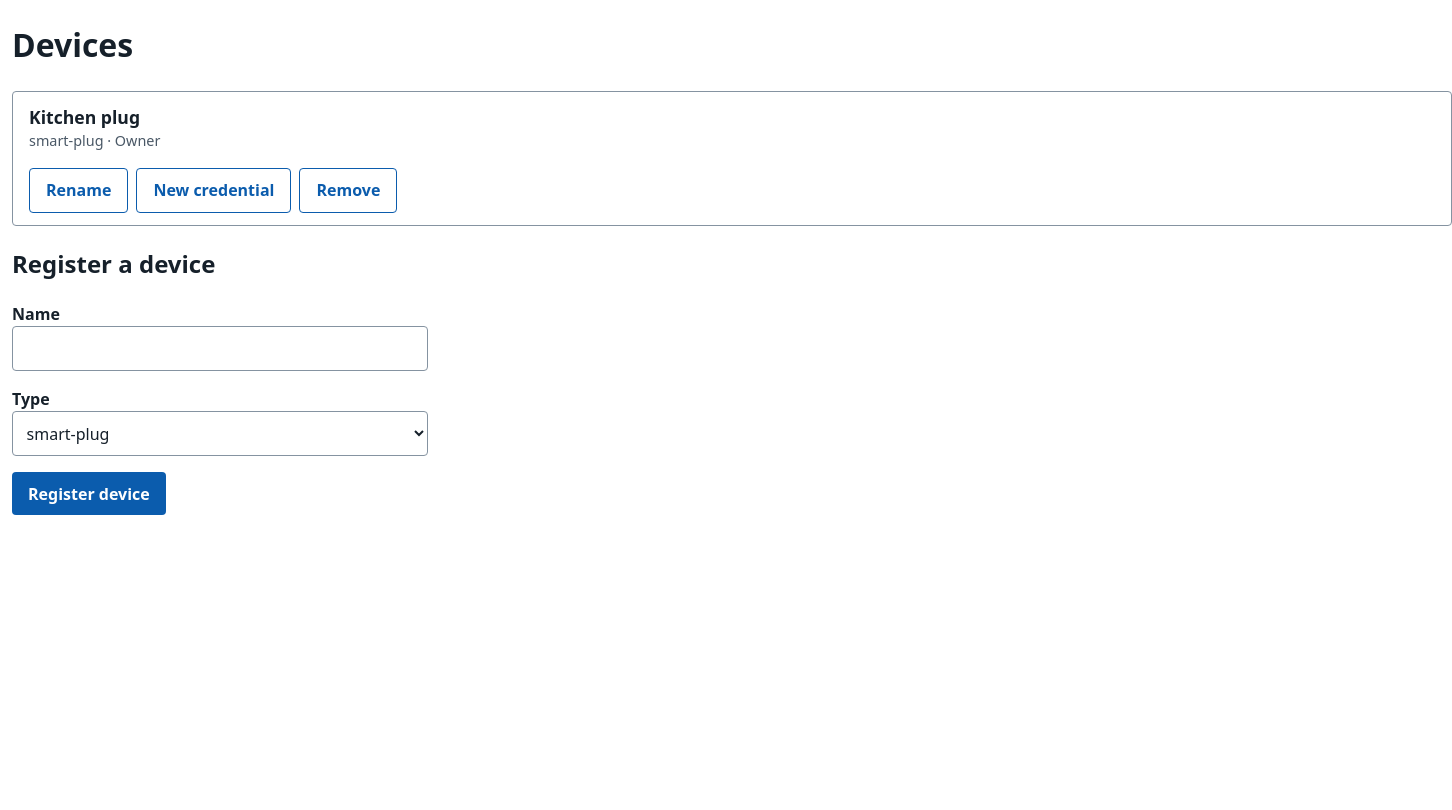
Test: DevicesPage › explains a conflicting change instead of overwriting it
Click the button "Rename". click: click(79, 190)
box: [29,168,128,213]
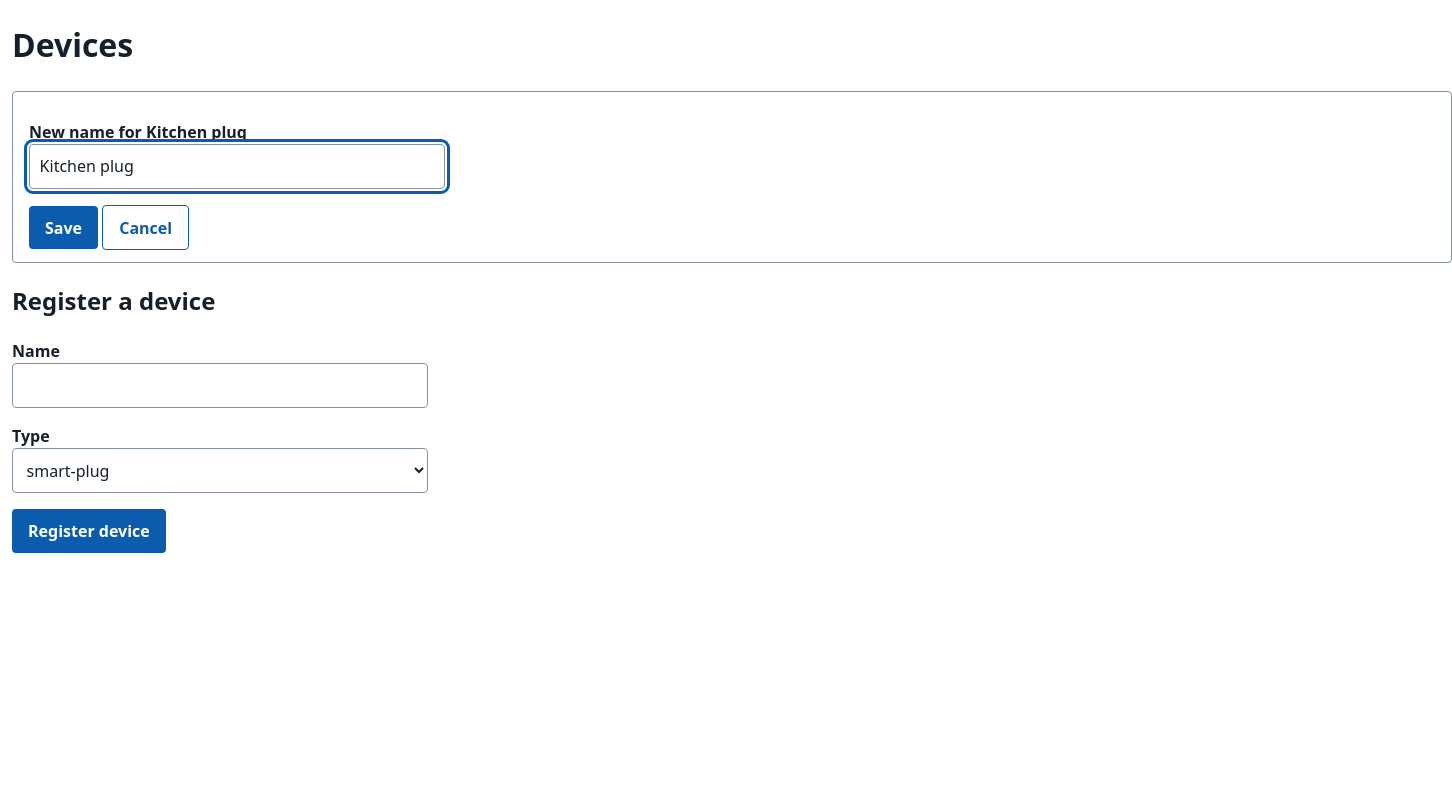
Click the button "Save". click: click(64, 228)
box: [29,206,98,249]
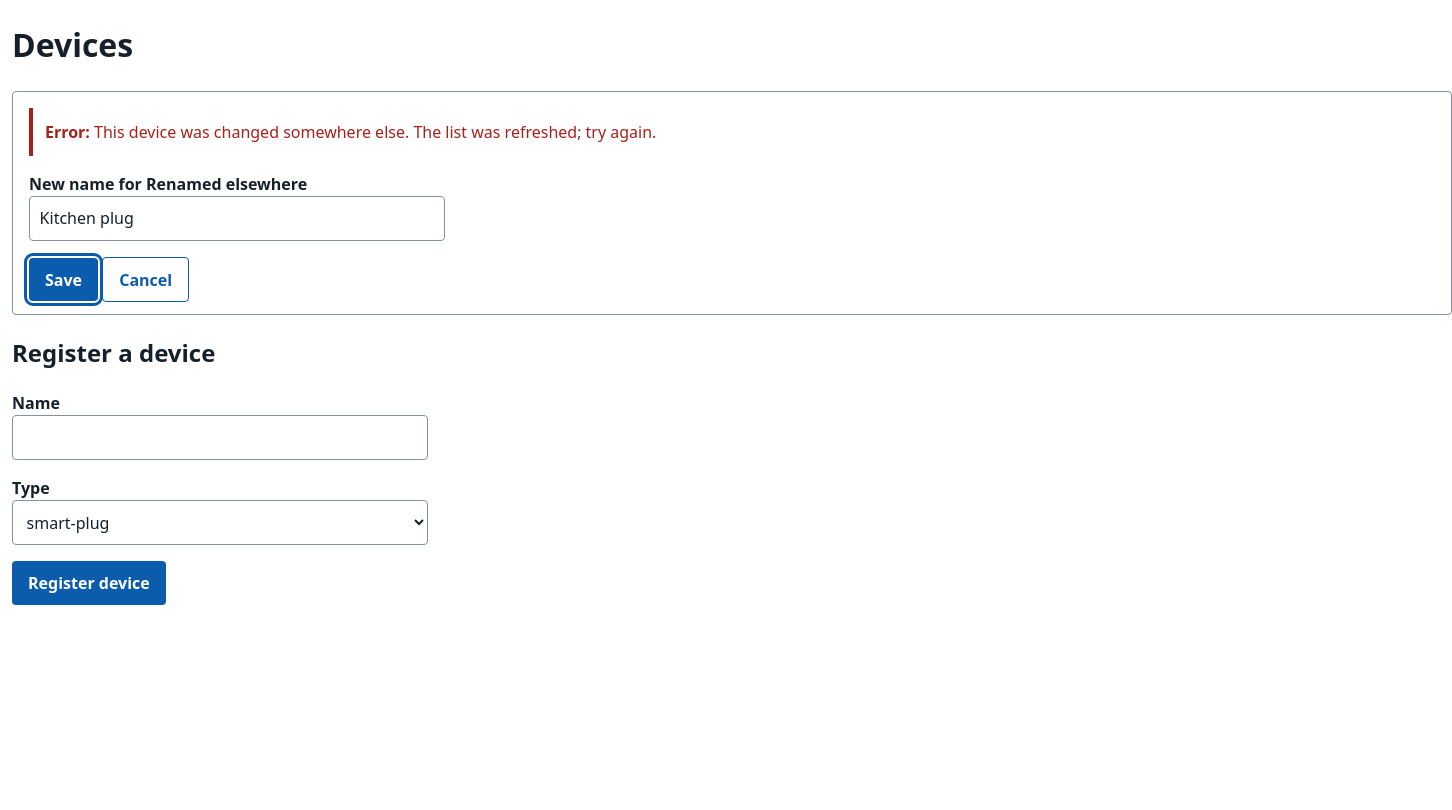
Result: the message shows "changed somewhere else" at [94,121,656,143]
